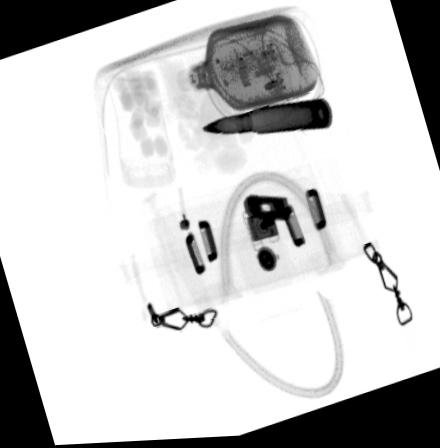Bullet: (199, 100, 332, 138)
